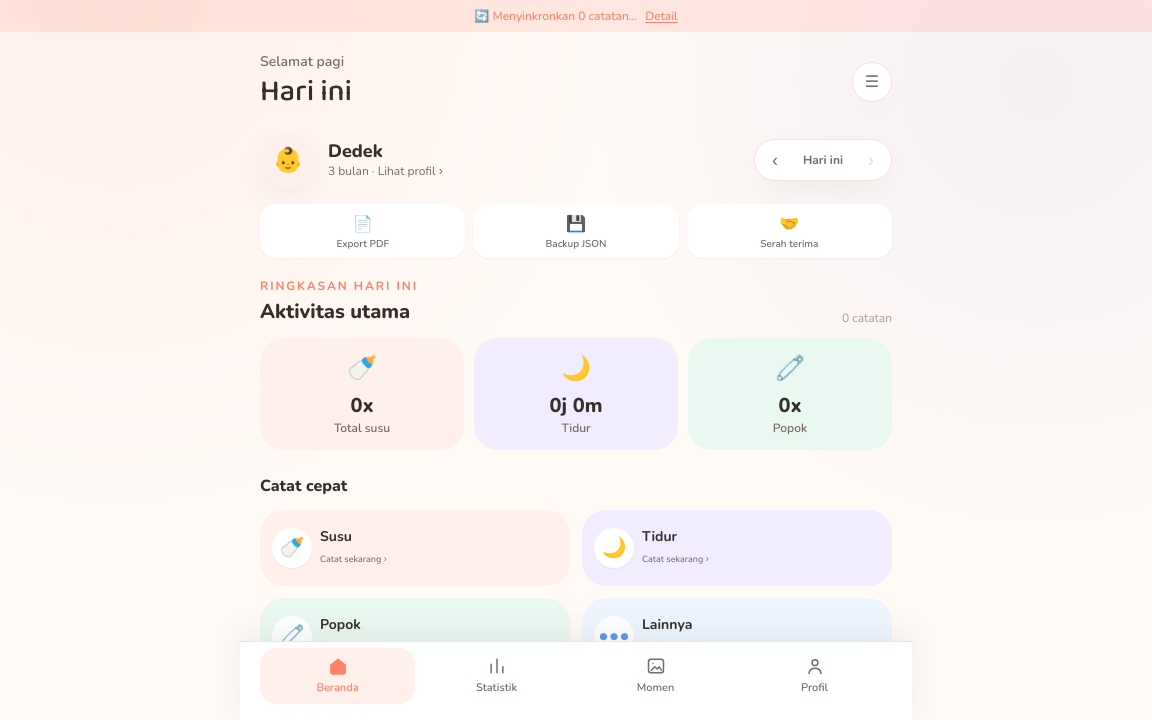
Test: App — Sync Center (single authoritative sync controller) › is reachable from the app menu ('🔄 Status Sinkronisasi') even while sync status is idle (nothing pending)
Expected: the text "Dedek" is shown, [328, 139, 383, 163]
Click the button "☰" at coordinates (872, 82), box [852, 62, 892, 102]
(page scrolled)
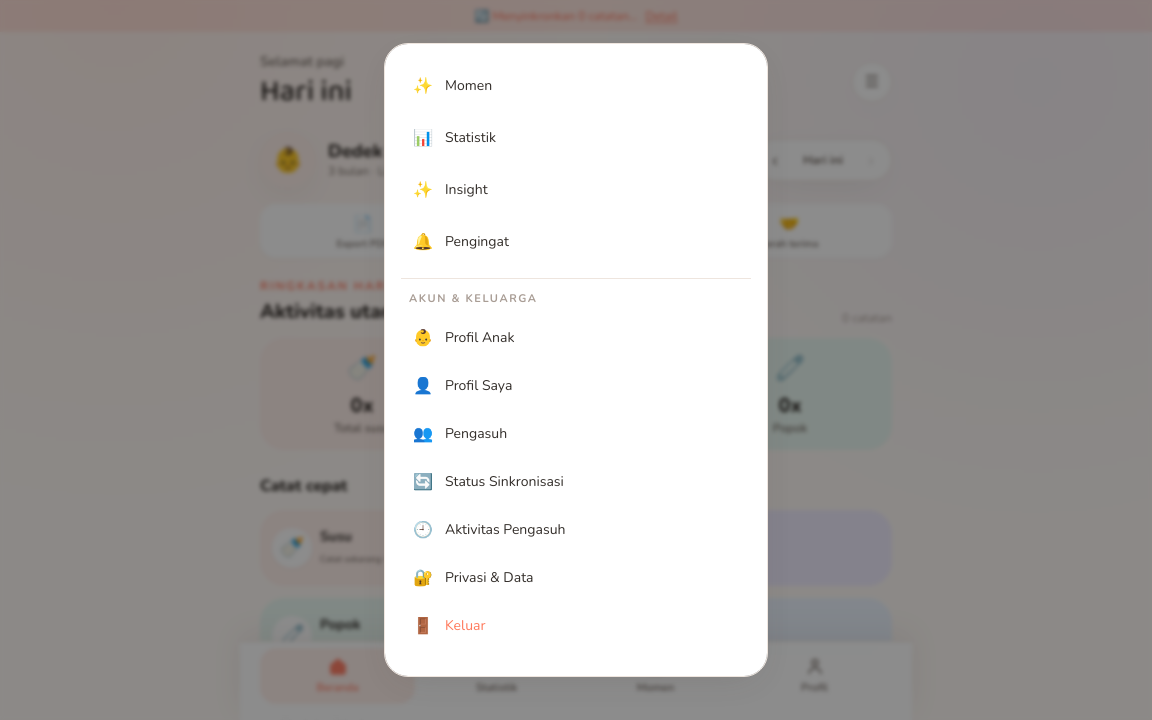
Click the button "🔄 Status Sinkronisasi" at coordinates (504, 481), box [401, 460, 751, 504]
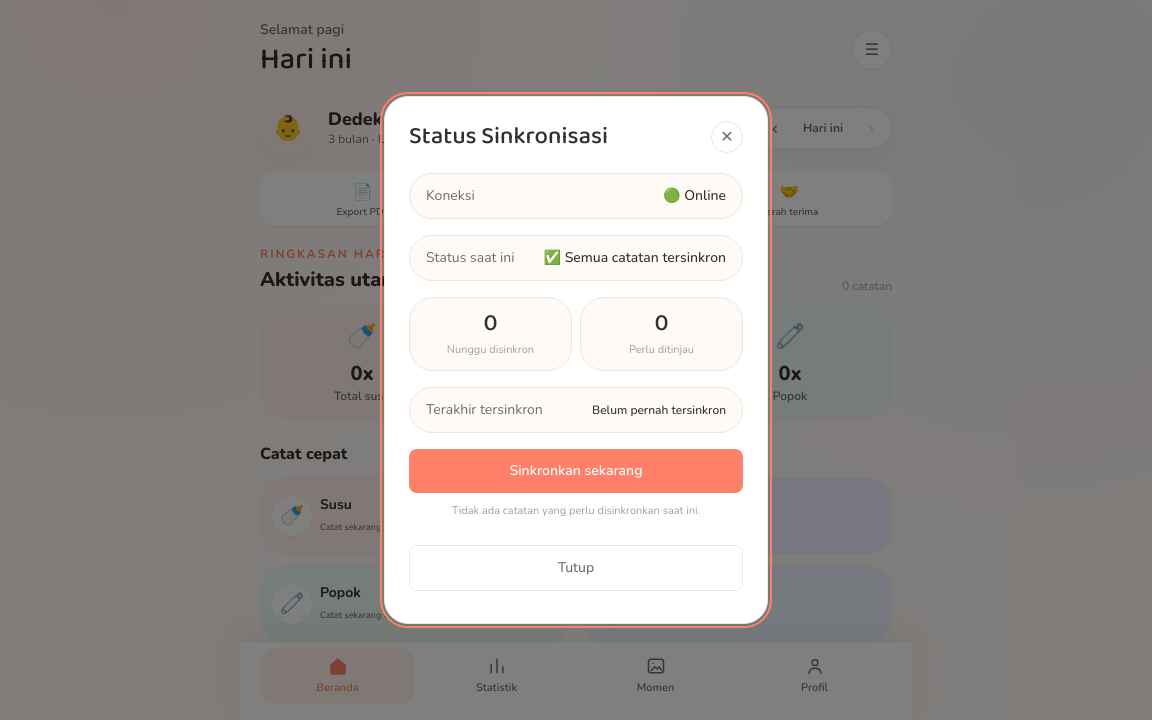
Now the dialog "Status Sinkronisasi" is shown, box [384, 96, 768, 624]
Now the text "Belum pernah tersinkron" is shown, box [592, 402, 726, 418]
